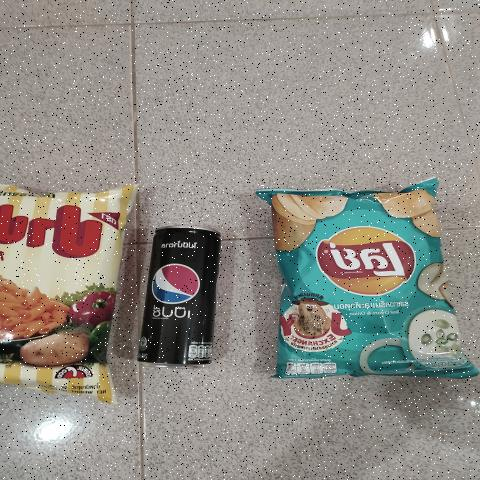lay_blue: (282, 193, 438, 375)
paprika: (0, 191, 129, 406)
pepsi_black: (146, 224, 216, 360)
